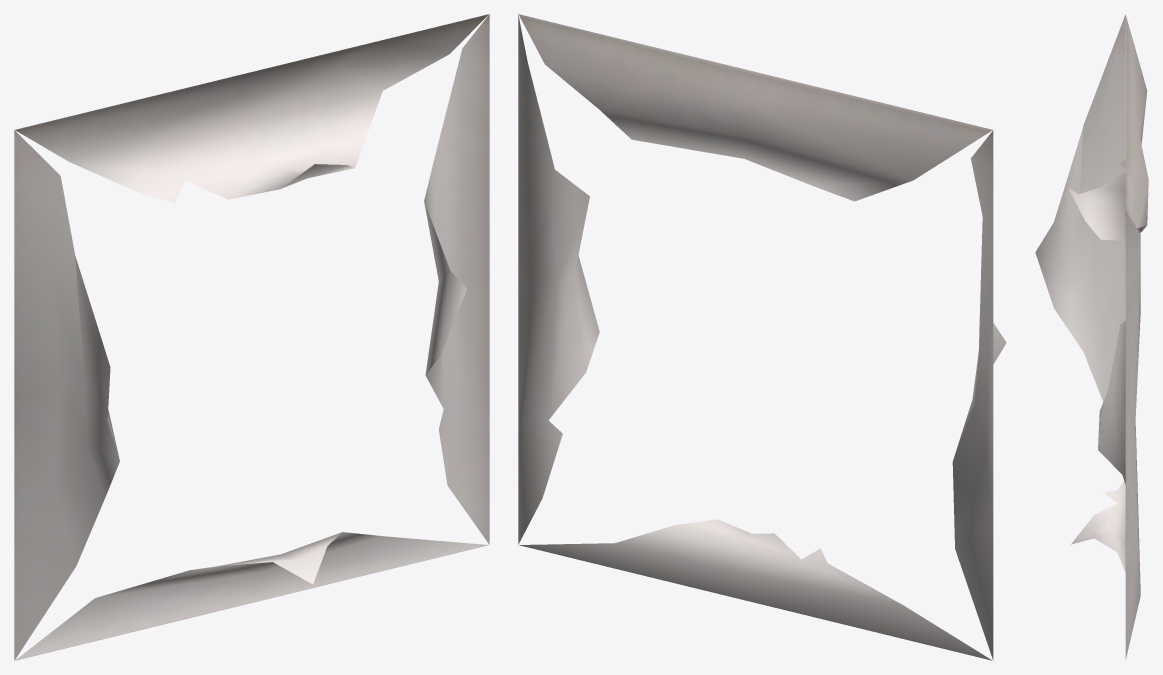
The model's file is P04_syouji_paper_broken.fbx.
3 views of the same model, side by side, from view 1: azimuth 30°, elevation 25°; view 2: azimuth 150°, elevation 25°; view 3: azimuth 270°, elevation 25° (orthographic). The views are drawn at different scales.
Parts seen in each view (by area): view 1: syouji_paper_broken01; view 2: syouji_paper_broken01; view 3: syouji_paper_broken01.
Part boxes in pixels (left/top/right/bottom): syouji_paper_broken01: left=14, top=14, right=489, bottom=660; syouji_paper_broken01: left=518, top=14, right=1006, bottom=660; syouji_paper_broken01: left=1035, top=14, right=1148, bottom=659.
Size of the model in its own units: 8.8 by 9.4 by 2.15.
